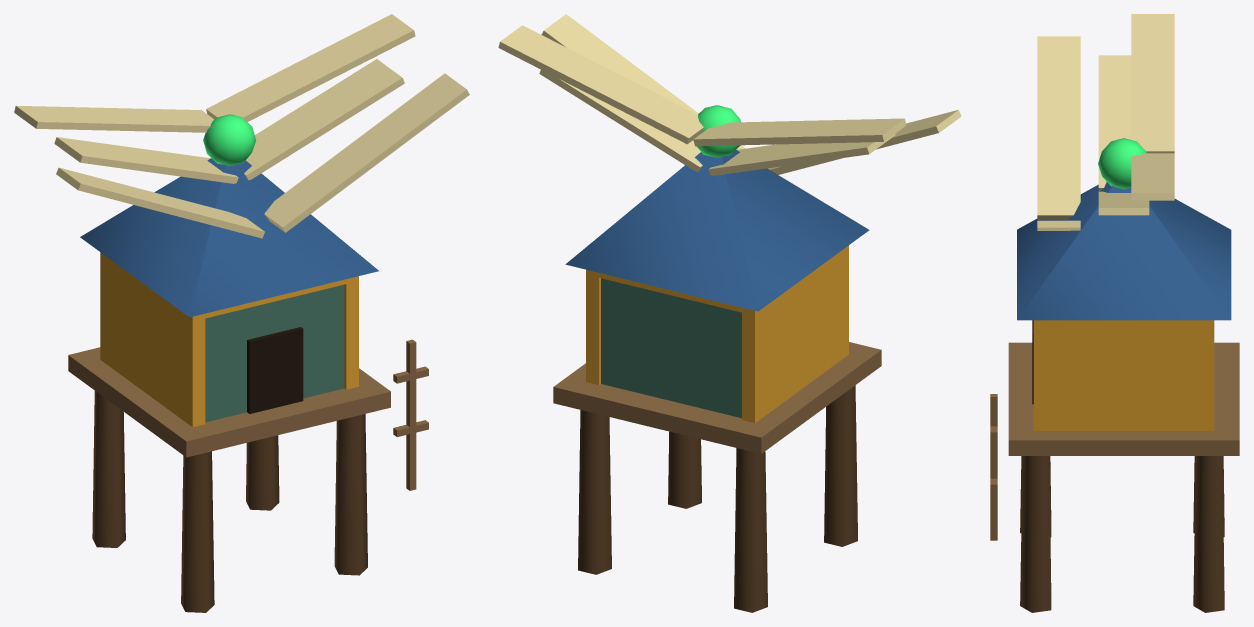
Rendered from level3.glb.
3 renders of one model, left to right at view 1: azimuth 30°, elevation 25°; view 2: azimuth 150°, elevation 25°; view 3: azimuth 270°, elevation 25°, orthographic. The views are drawn at different scales.
Bounding box in the file's own units: 3.43 × 3.99 × 1.93.
